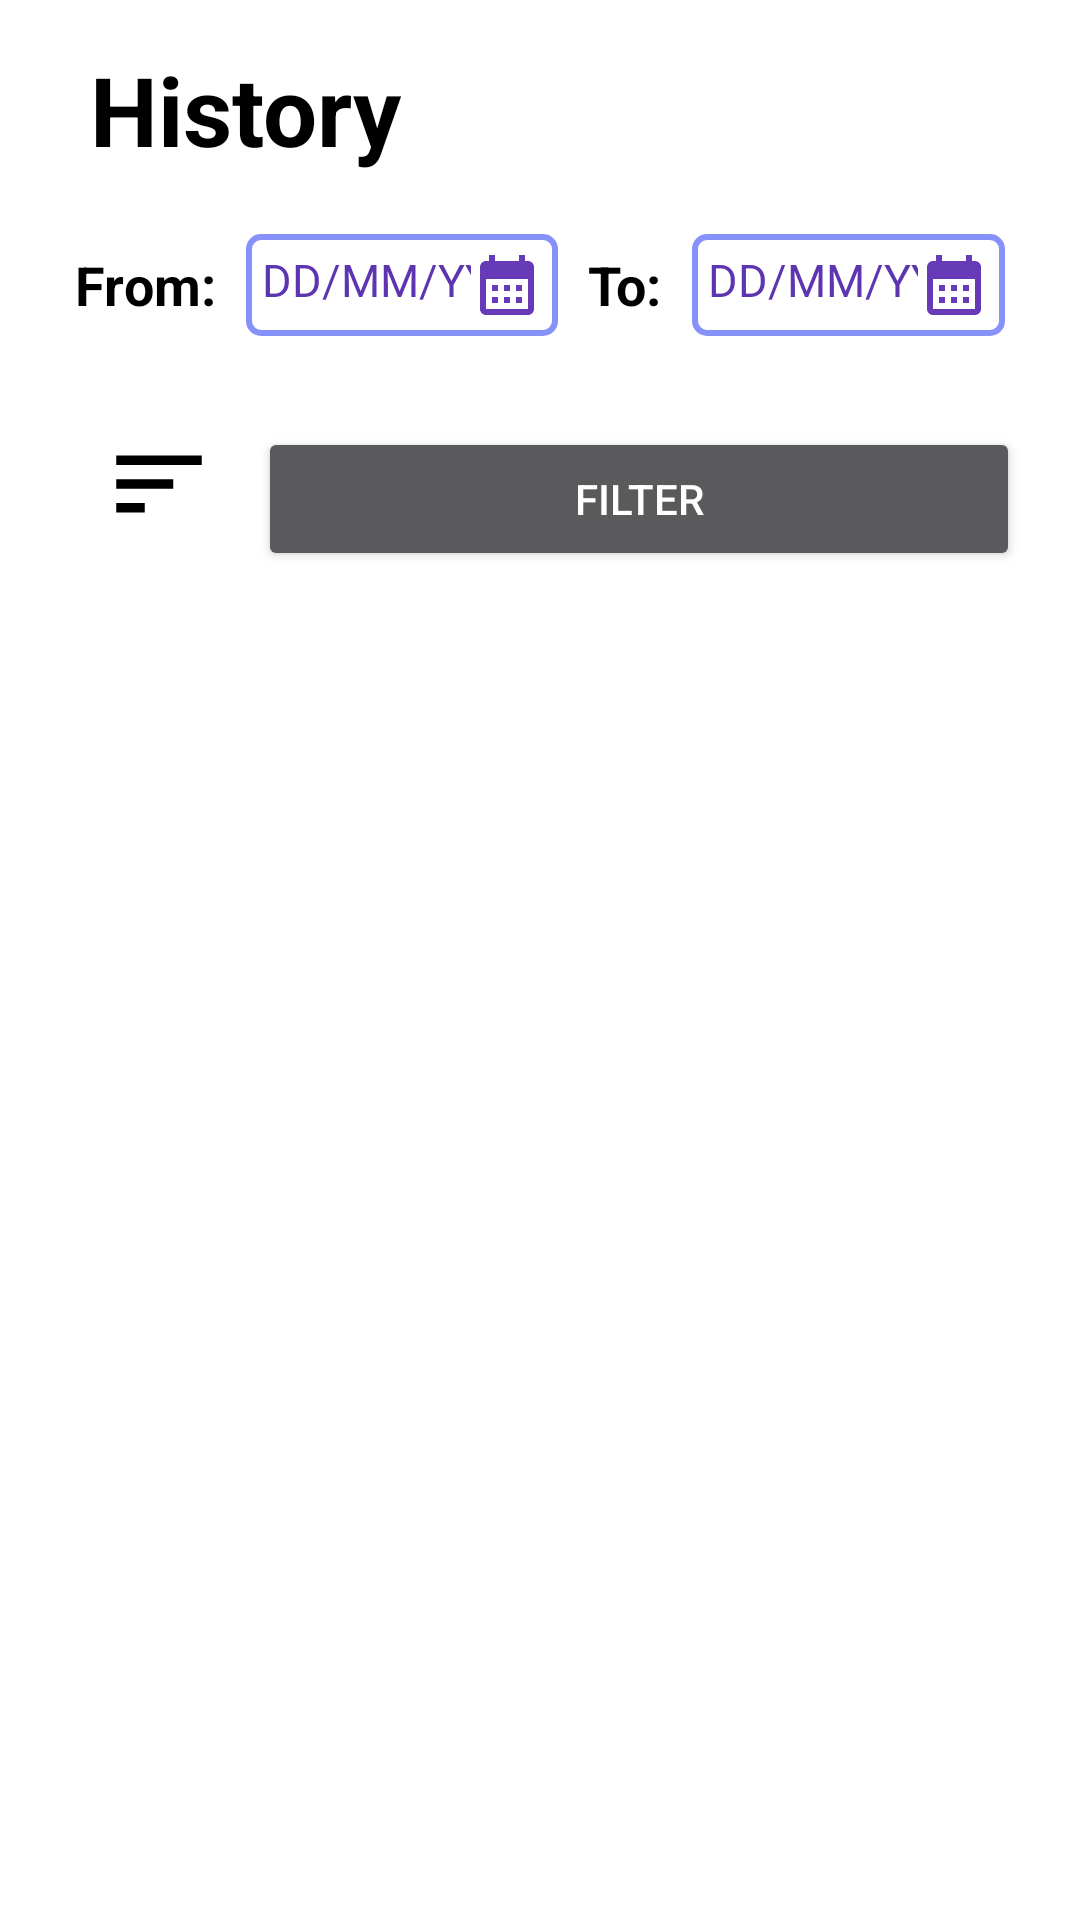

Where to tap for icons on this 1080 x 1920 app screen, as point (x, y):
sort: point (159, 484)
